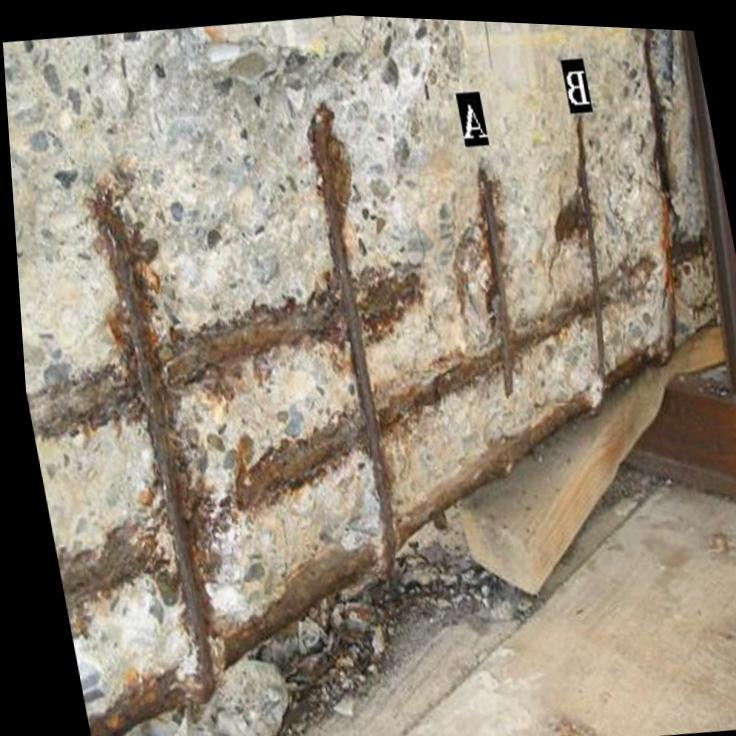damage: (2, 13, 716, 736)
